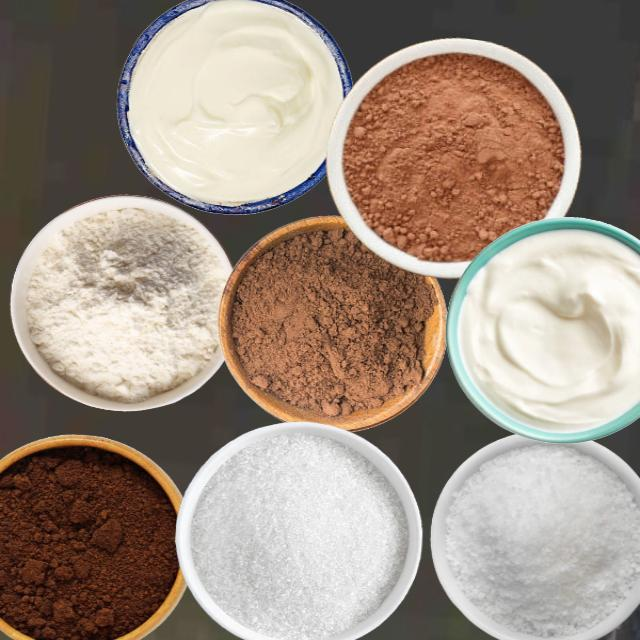Cocoa: (218, 213, 450, 435), (340, 49, 566, 263)
Coffee: (0, 439, 181, 639)
Flour: (25, 206, 227, 403)
Sugar: (189, 431, 407, 639), (444, 442, 639, 637)
